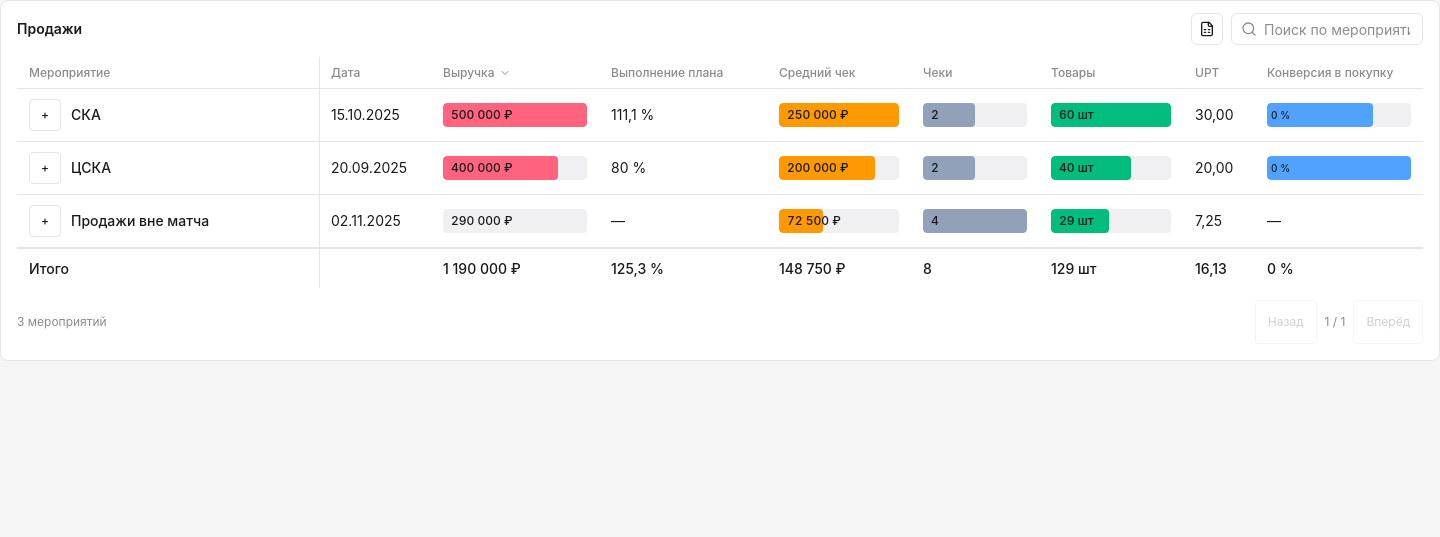
Test: MerchMatchSalesTable drill-down › expanding a match shows three parallel sections
What coordinates should you click on to do the following:
click the button "+" in the row of "15.10.2025"
I would click on:
 (45, 115)
Its box is [29,99,61,131].
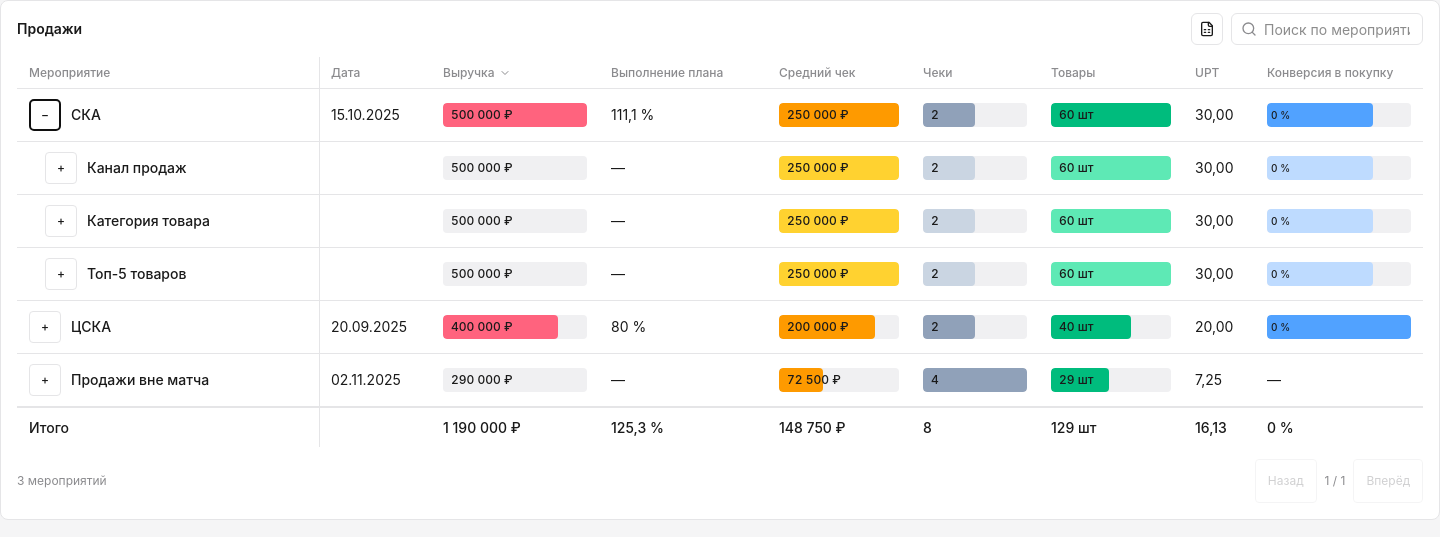
Expected: the text "Канал продаж" is shown, [87,158,187,178]
Expected: the text "Категория товара" is shown, [87,211,210,231]
Expected: the text "Топ-5 товаров" is shown, [87,264,186,284]
